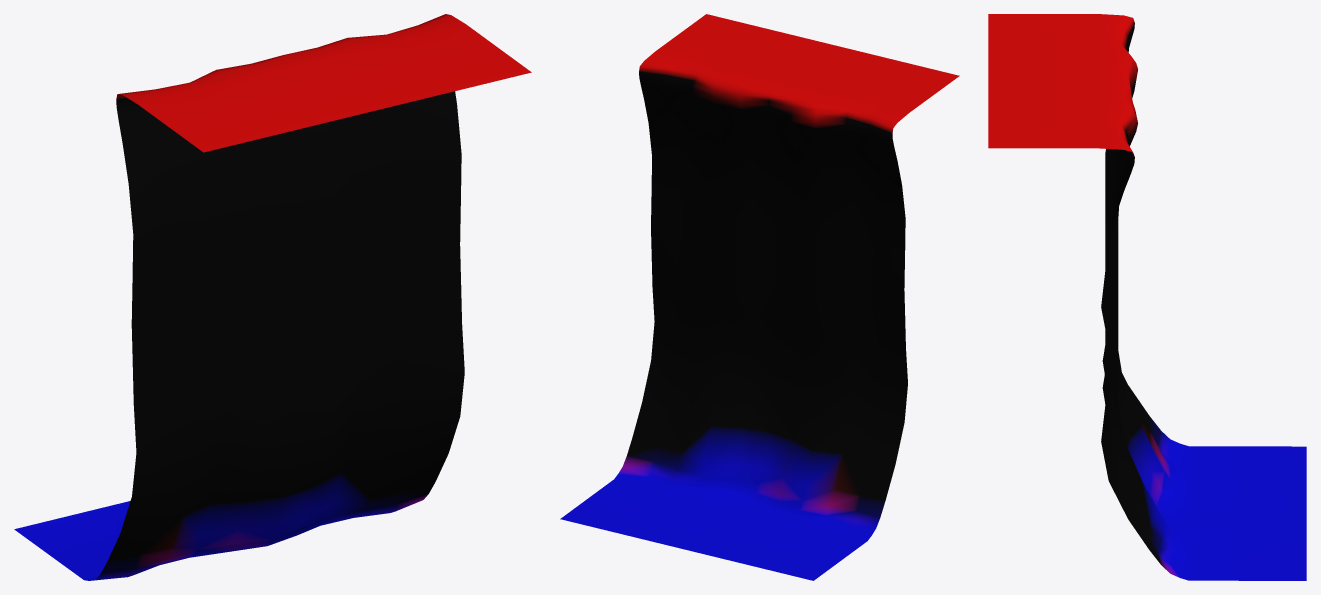
File: GroundCliff01A 3M for Water Background.fbx
3 views of the same model, side by side, from view 1: azimuth 30°, elevation 25°; view 2: azimuth 150°, elevation 25°; view 3: azimuth 270°, elevation 25° (orthographic). The views are drawn at different scales.
Parts seen in each view (by area): view 1: GroundCliff01A 3M for Water Background; view 2: GroundCliff01A 3M for Water Background; view 3: GroundCliff01A 3M for Water Background.
Part boxes in pixels (<box>): GroundCliff01A 3M for Water Background: <box>14,14,531,580</box>; GroundCliff01A 3M for Water Background: <box>560,14,959,580</box>; GroundCliff01A 3M for Water Background: <box>988,14,1306,580</box>.
Size of the model in its own units: 2 by 3 by 2.
